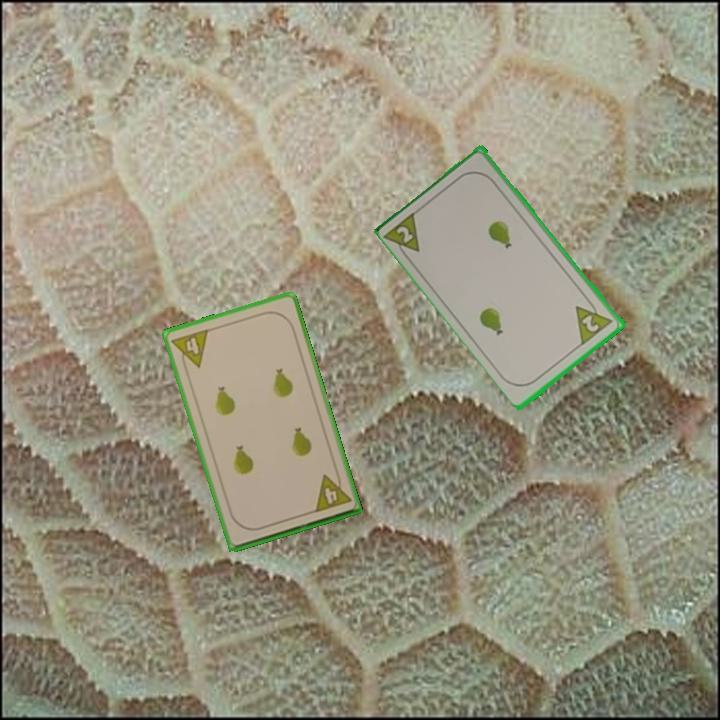2p: (382, 207, 423, 264), (572, 294, 616, 347)
4p: (168, 325, 211, 374), (310, 468, 354, 515)
